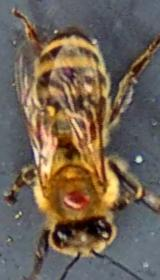varroa_mite: (54, 175, 100, 216)
